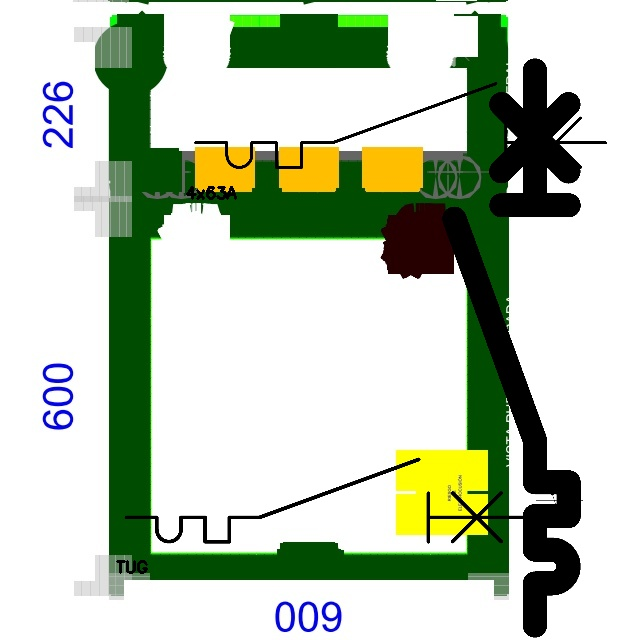interruptor_termomagnetico: (440, 56, 583, 640), (185, 73, 616, 178), (116, 449, 535, 552)
